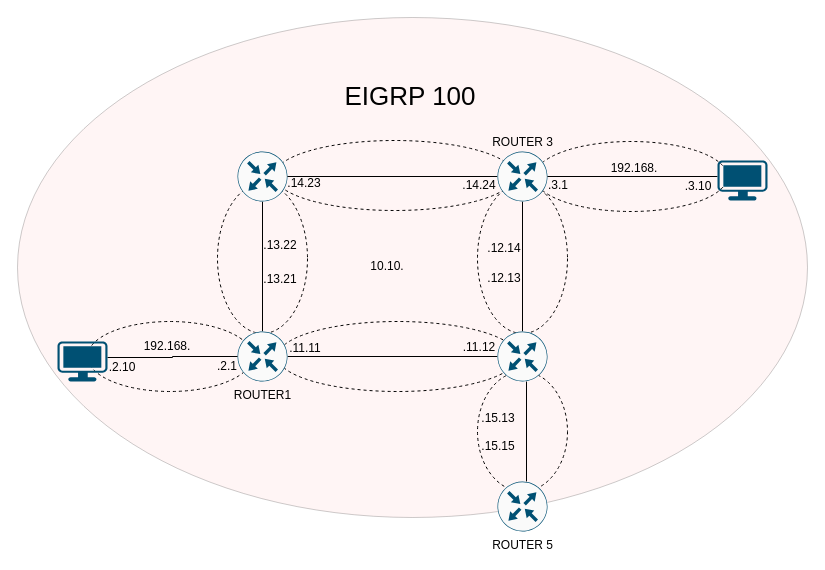
Image size: 825x570. Some labels were removed from this diagram. The shapes that lost their labels are listed below. From the top down, each one's box as (x1, y1, x2, y2) in pixels, then its label:
(236, 150, 288, 202): ROUTER 2
(496, 330, 548, 382): ROUTER 4
